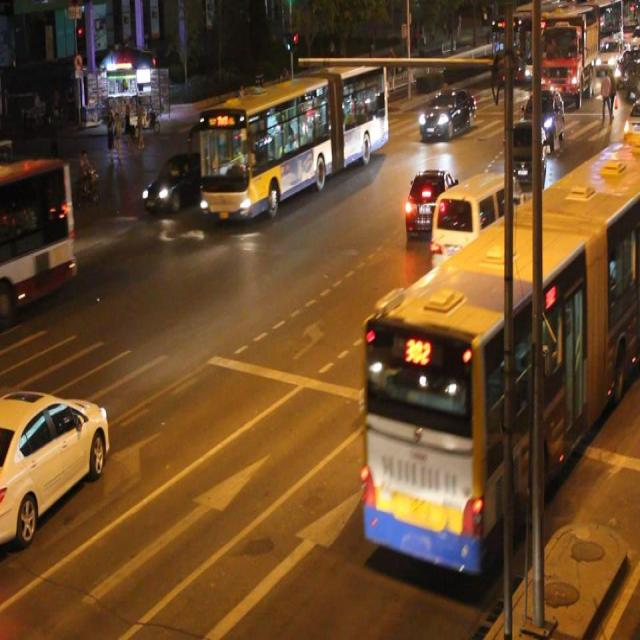car: (1, 387, 110, 536), (404, 164, 460, 239), (141, 151, 202, 210), (416, 87, 474, 139), (503, 120, 544, 186)
truck: (431, 172, 516, 276)
van: (367, 143, 640, 568), (198, 64, 388, 217), (1, 158, 76, 315)
